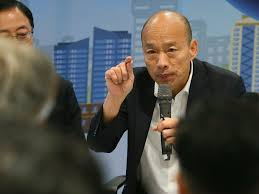hand: (104, 55, 134, 96)
